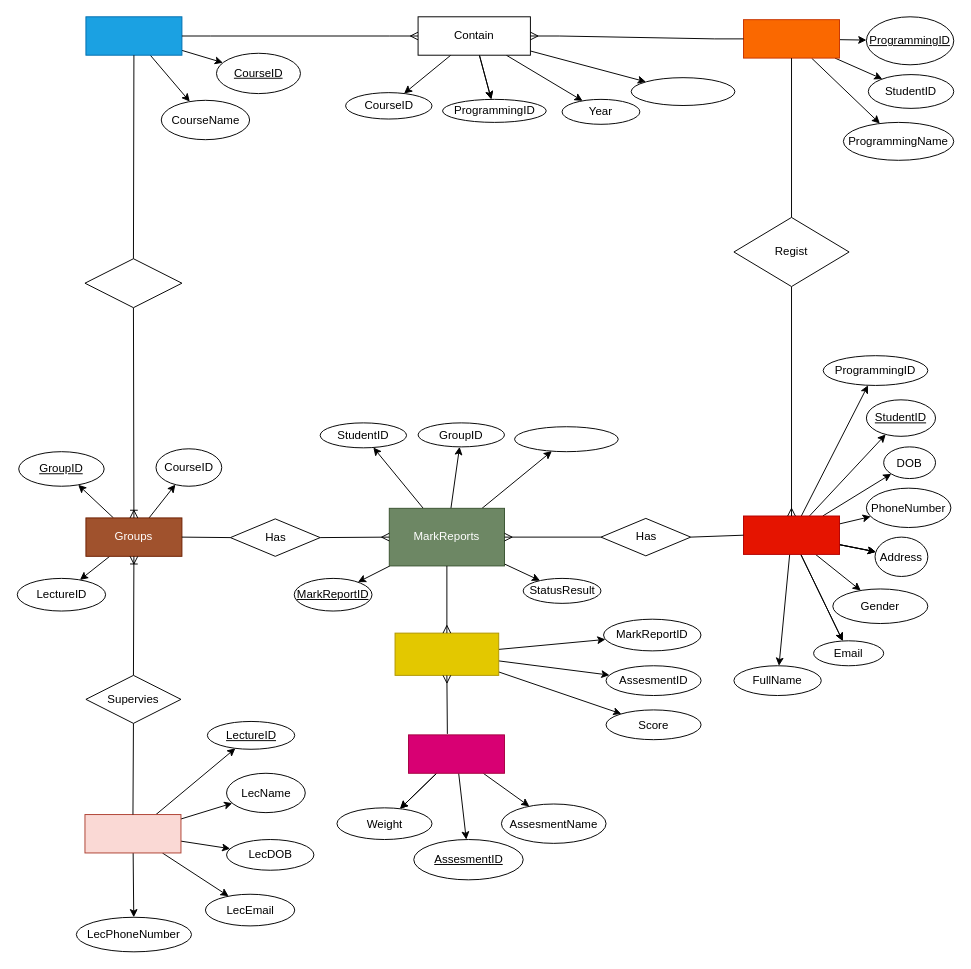
Image size: 971x969. Some labels were removed from this diagram. The shapes that lost their labels are listed below. From the top down, each one's box as (x1, y1, x2, y2) in pixels, then its label:
(85, 16, 182, 55): Courses
(743, 19, 840, 58): Programming
(630, 77, 735, 106): Semester
(84, 258, 182, 308): Studied
(514, 426, 618, 452): TotalMark
(743, 515, 840, 554): Students
(394, 632, 499, 675): MarkReportDetails
(408, 734, 504, 773): Assesments
(84, 814, 181, 853): Lectures
